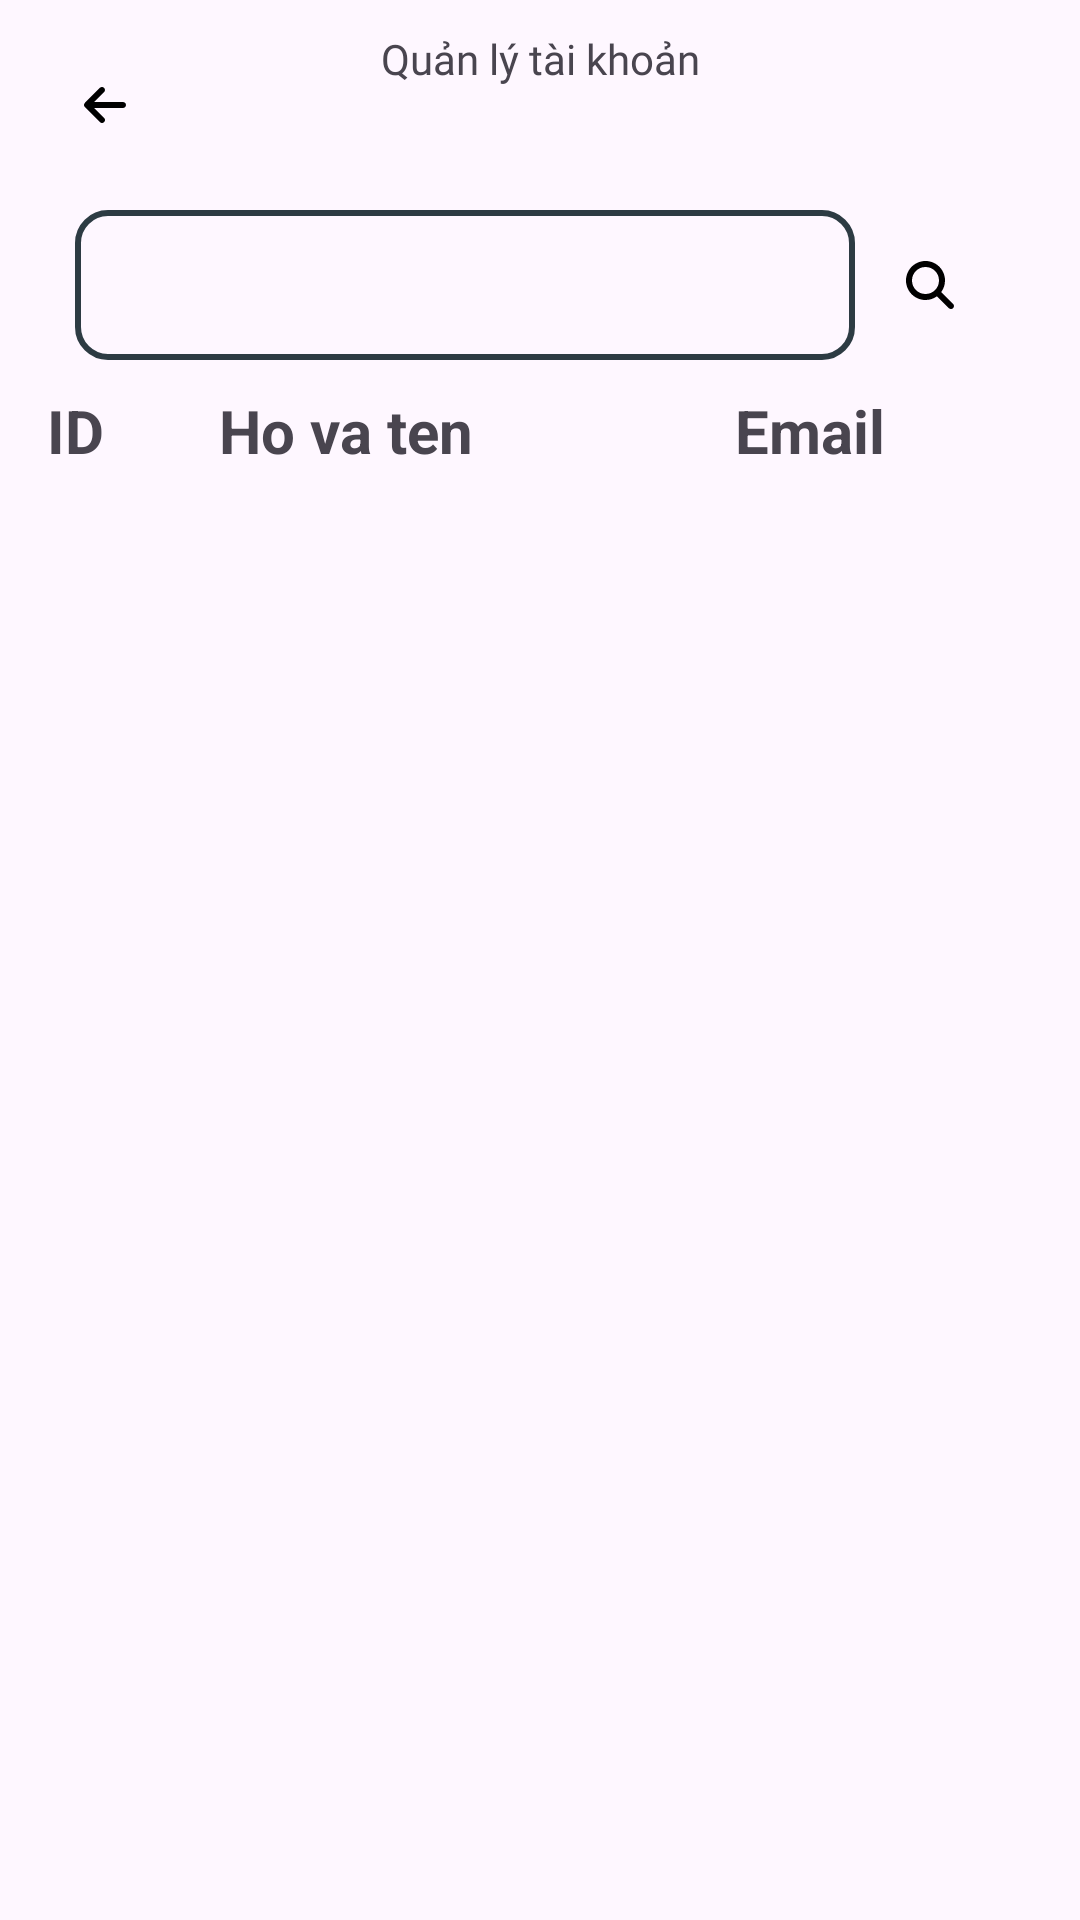

Point at icon controls on the screen. Image size 1080px×1920px, points as point (x, y).
arrow left: point (105, 105)
search: point (930, 285)
